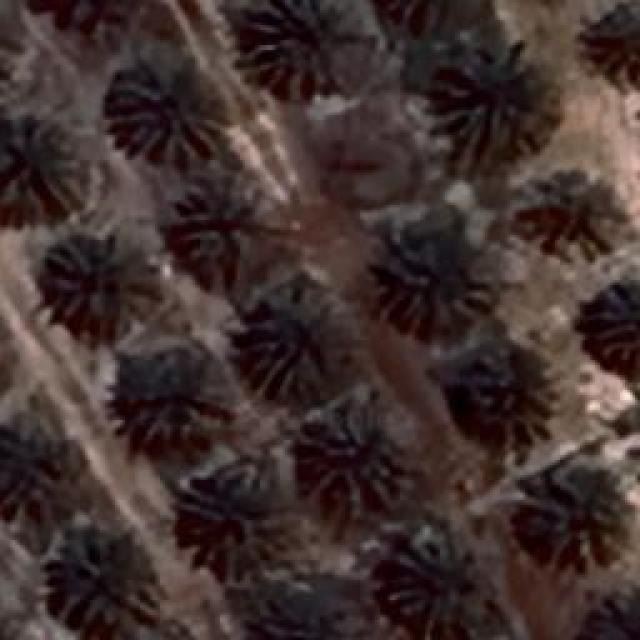PalmTree: (430, 40, 552, 160), (444, 335, 556, 455), (240, 0, 368, 95), (108, 59, 225, 162), (186, 457, 294, 565), (112, 349, 228, 449), (48, 528, 160, 630), (48, 232, 160, 332), (232, 285, 332, 393), (175, 182, 275, 286), (520, 470, 630, 560), (382, 537, 480, 635), (382, 250, 496, 332), (530, 169, 625, 259), (310, 410, 400, 500), (0, 118, 80, 208), (0, 420, 70, 520), (250, 575, 348, 640), (24, 0, 153, 44), (587, 0, 640, 100), (367, 0, 492, 42), (592, 272, 638, 372), (572, 591, 640, 640)
